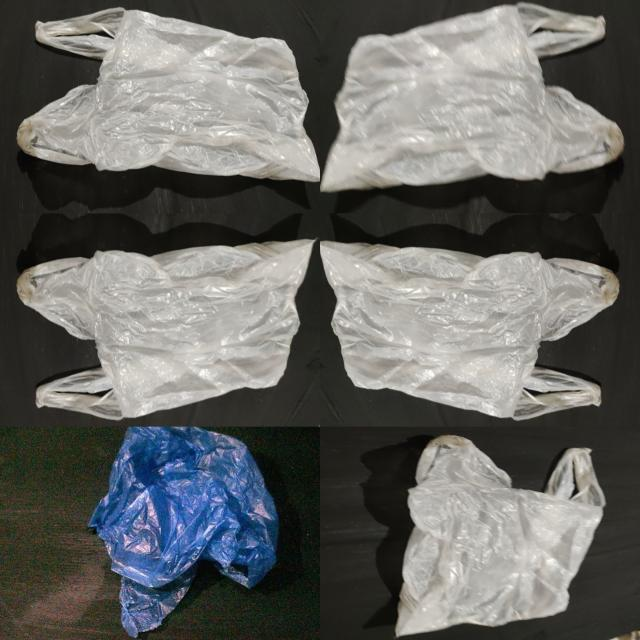Single-layer Plastic: (322, 4, 623, 191), (320, 241, 619, 419), (18, 240, 314, 419), (18, 8, 319, 181), (395, 435, 605, 636), (89, 428, 278, 636)
